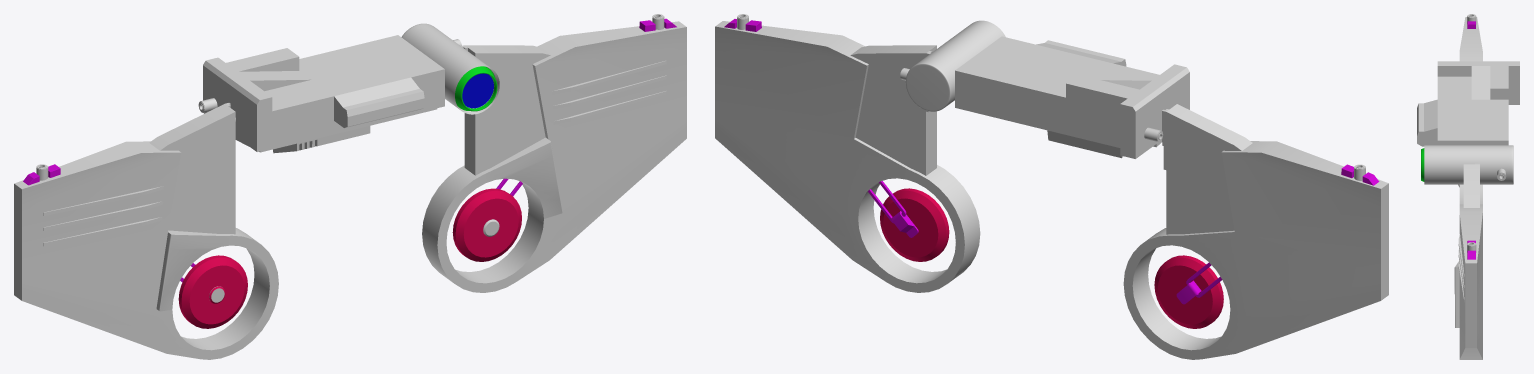
The model's file is Drone.fbx.
The picture shows the model from 3 angles, left to right: view 1: azimuth 30°, elevation 25°; view 2: azimuth 150°, elevation 25°; view 3: azimuth 270°, elevation 25°; orthographic projection. The views are drawn at different scales.
Parts seen in each view (by area): view 1: Wing, Wing.001, Body; view 2: Wing, Wing.001, Body; view 3: Body, Wing.001, Wing.
Part boxes in pixels (<box>): Wing: <box>14,103,278,359</box>; Wing.001: <box>422,14,686,292</box>; Body: <box>198,23,499,153</box>; Wing: <box>1123,104,1388,359</box>; Wing.001: <box>715,14,980,292</box>; Body: <box>900,20,1189,158</box>; Body: <box>1417,61,1519,184</box>; Wing.001: <box>1454,162,1482,359</box>; Wing: <box>1458,14,1482,204</box>.
Bounding box in the file's own units: 166 × 62.63 × 29.26.
